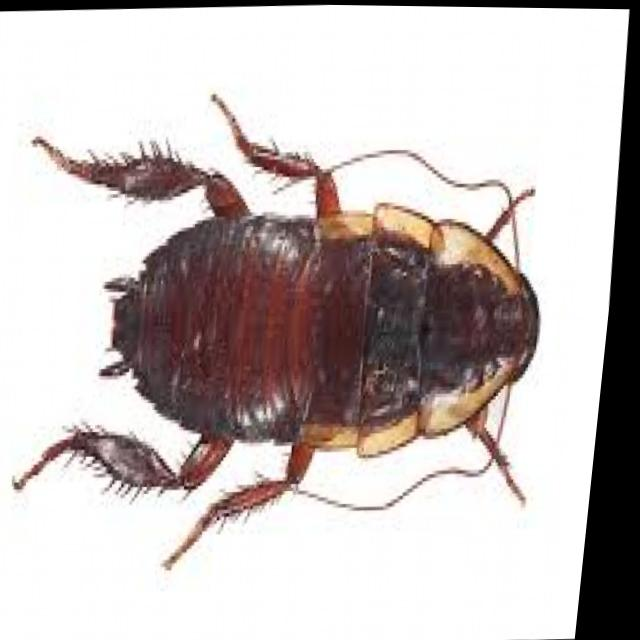Cockroach: (0, 68, 596, 594)
